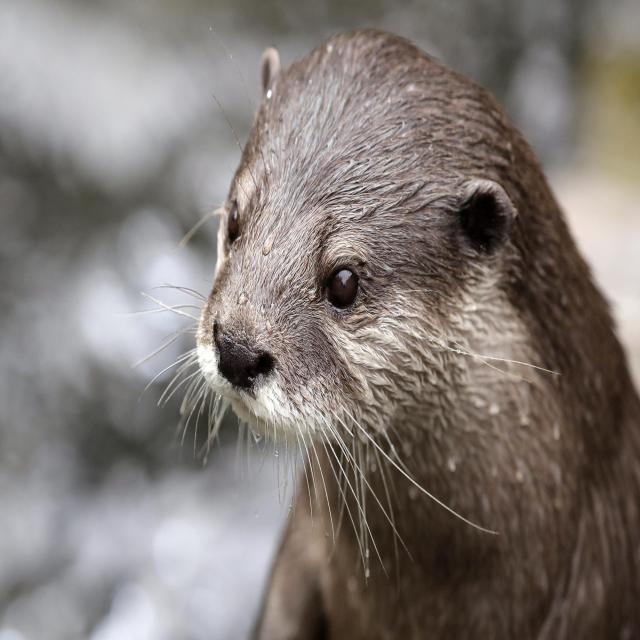Otter: (185, 26, 640, 640)
